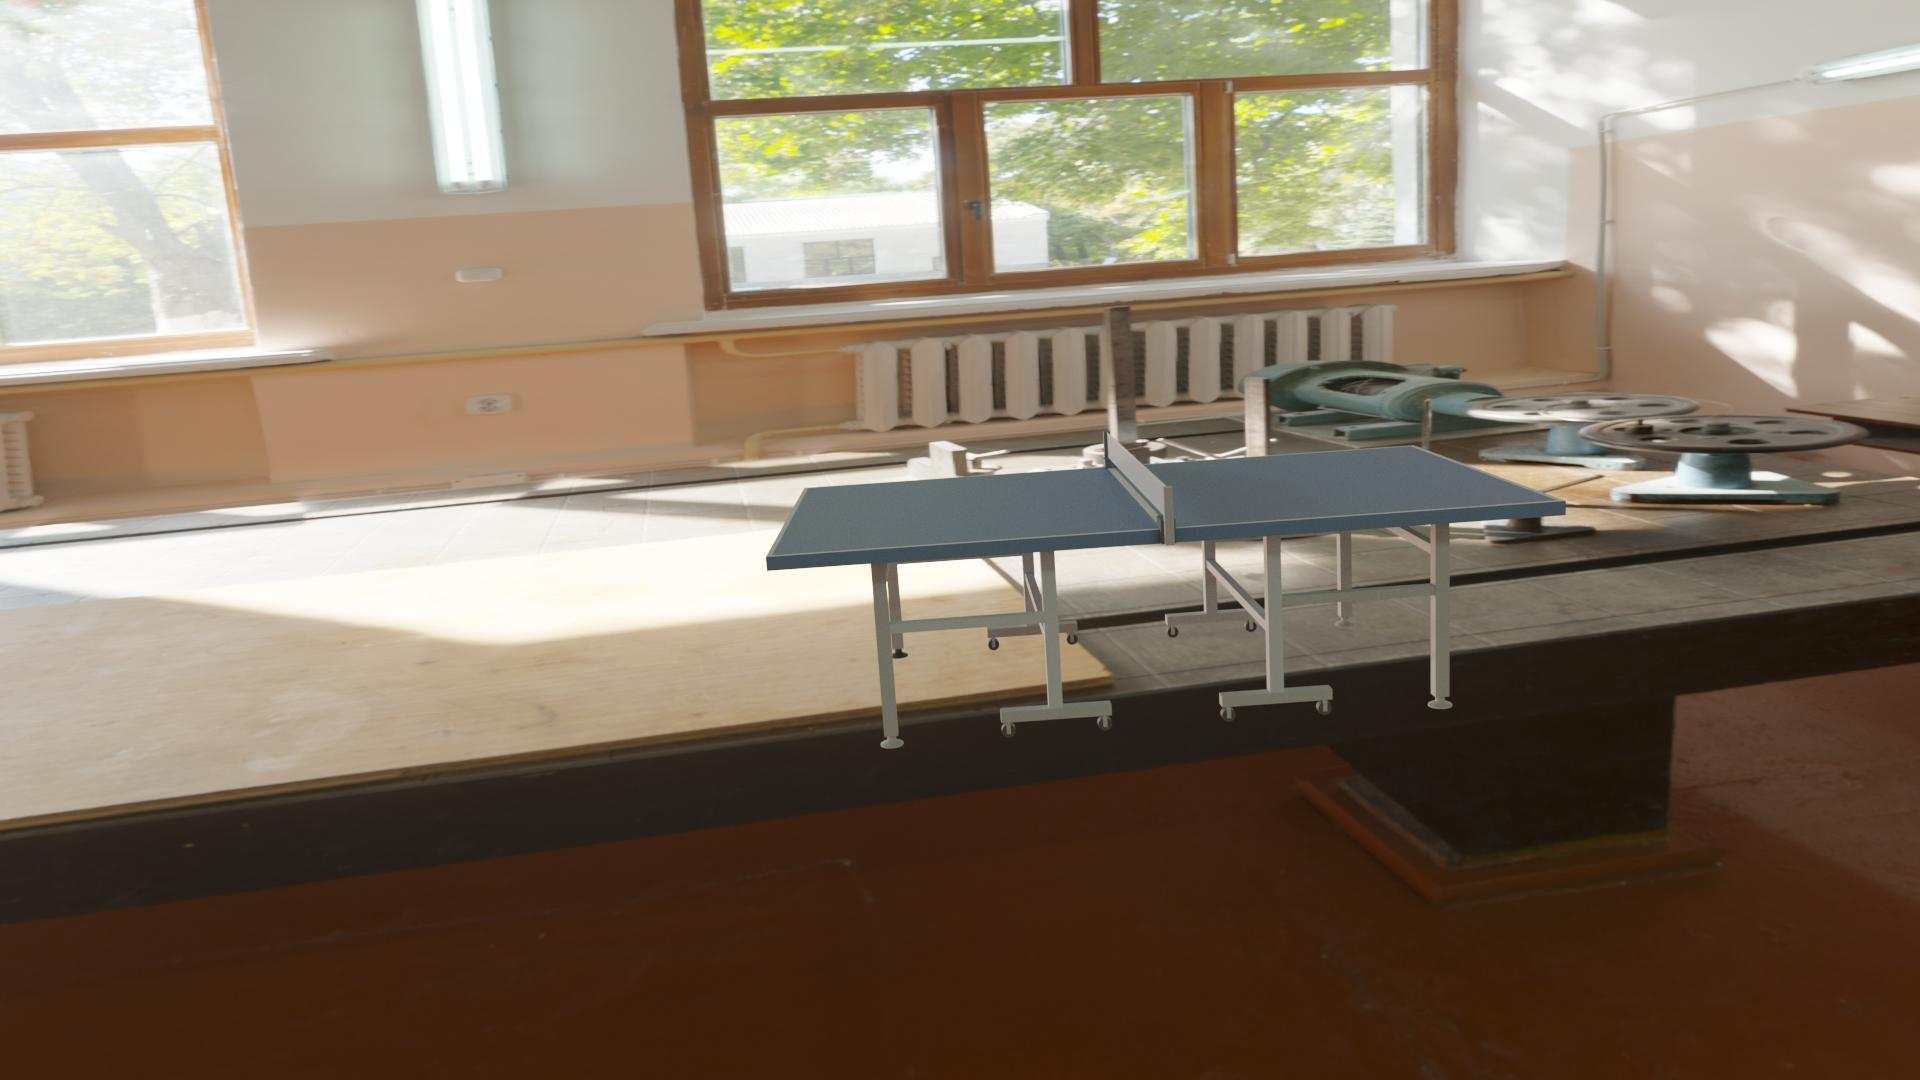table: (771, 446, 1557, 555)
